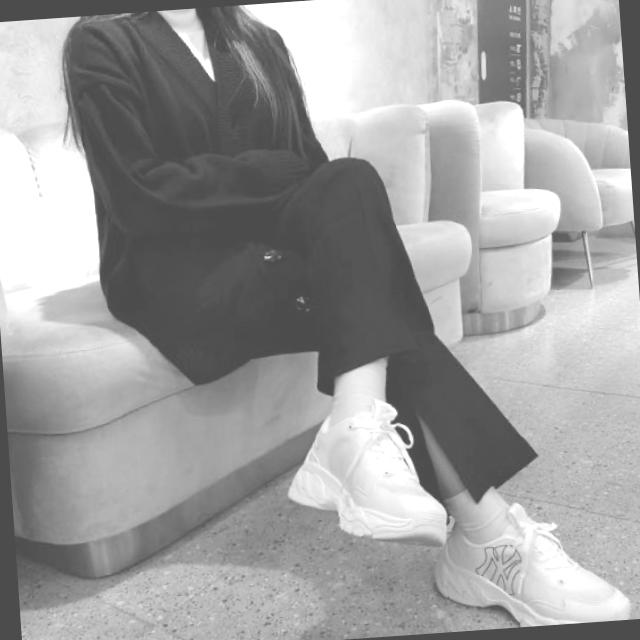cardigan: (60, 0, 343, 377)
slacks: (252, 136, 545, 524)
